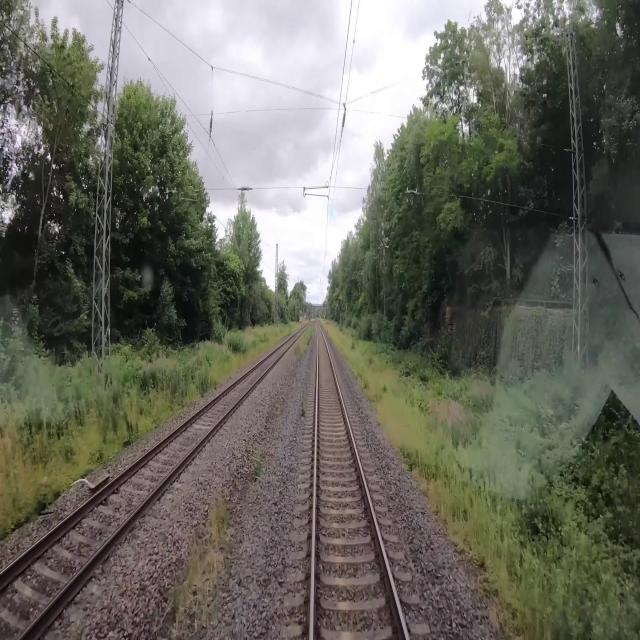Plant: (168, 493, 235, 639), (294, 324, 313, 361), (251, 460, 263, 483)
